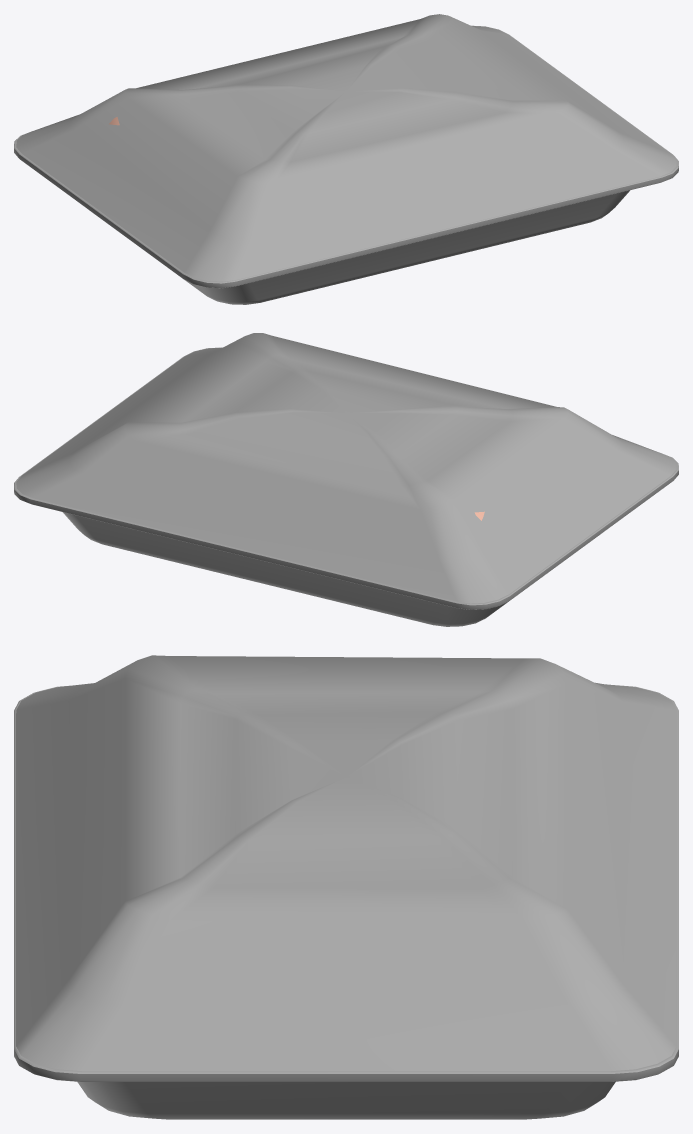
File: Chicken Drums.fbx
The picture shows the model from 3 angles, top to bottom: view 1: azimuth 30°, elevation 25°; view 2: azimuth 150°, elevation 25°; view 3: azimuth 270°, elevation 25°; orthographic projection. The views are drawn at different scales.
Visible parts, largest first — view 1: Chicken_Drums; view 2: Chicken_Drums; view 3: Chicken_Drums.
Boxes of the visible parts, left/top/right/bottom form: Chicken_Drums: left=14, top=14, right=678, bottom=304; Chicken_Drums: left=14, top=333, right=678, bottom=626; Chicken_Drums: left=14, top=655, right=678, bottom=1119.
Size of the model in its own units: 1.92 by 0.4646 by 1.39.
3 materials, 1 textured.
